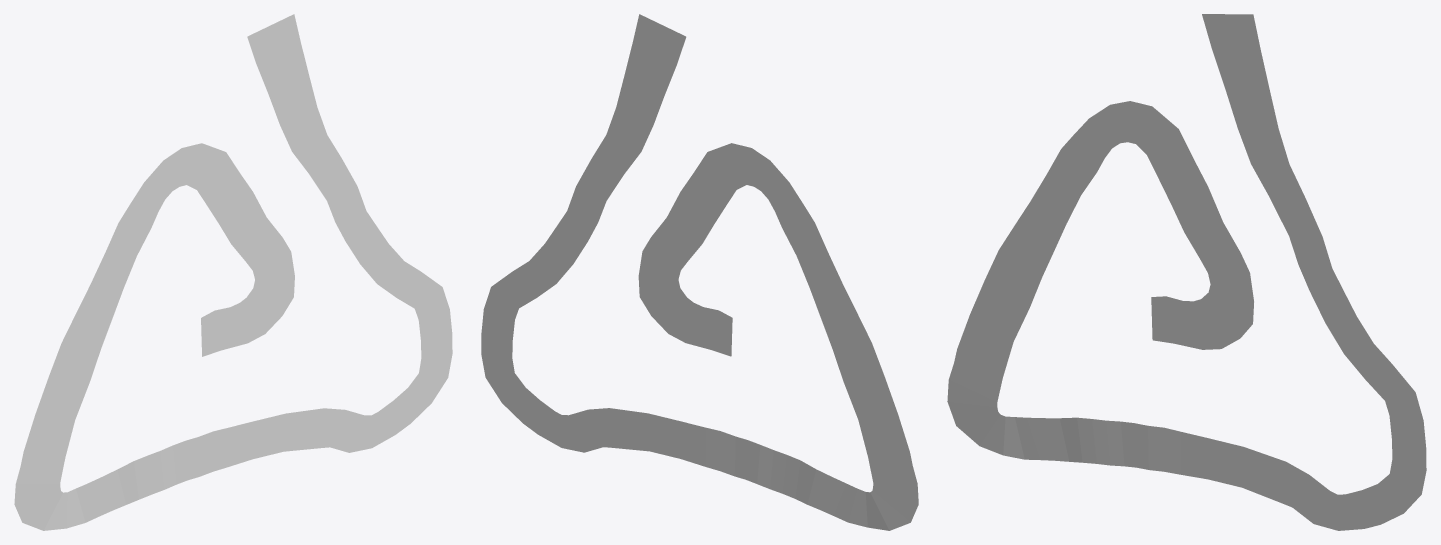
Rendered from PROTO_NOM_text.fbx.
3 views of the same model, side by side, from view 1: azimuth 30°, elevation 25°; view 2: azimuth 150°, elevation 25°; view 3: azimuth 330°, elevation 25° (orthographic). The views are drawn at different scales.
Parts seen in each view (by area): view 1: Plane.001; view 2: Plane.001; view 3: Plane.001.
Boxes of the visible parts, <box> form: Plane.001: <box>14,14,452,530</box>; Plane.001: <box>481,14,918,530</box>; Plane.001: <box>947,14,1426,530</box>.
Bounding box in the file's own units: 122 × 122 × 0.3152.
